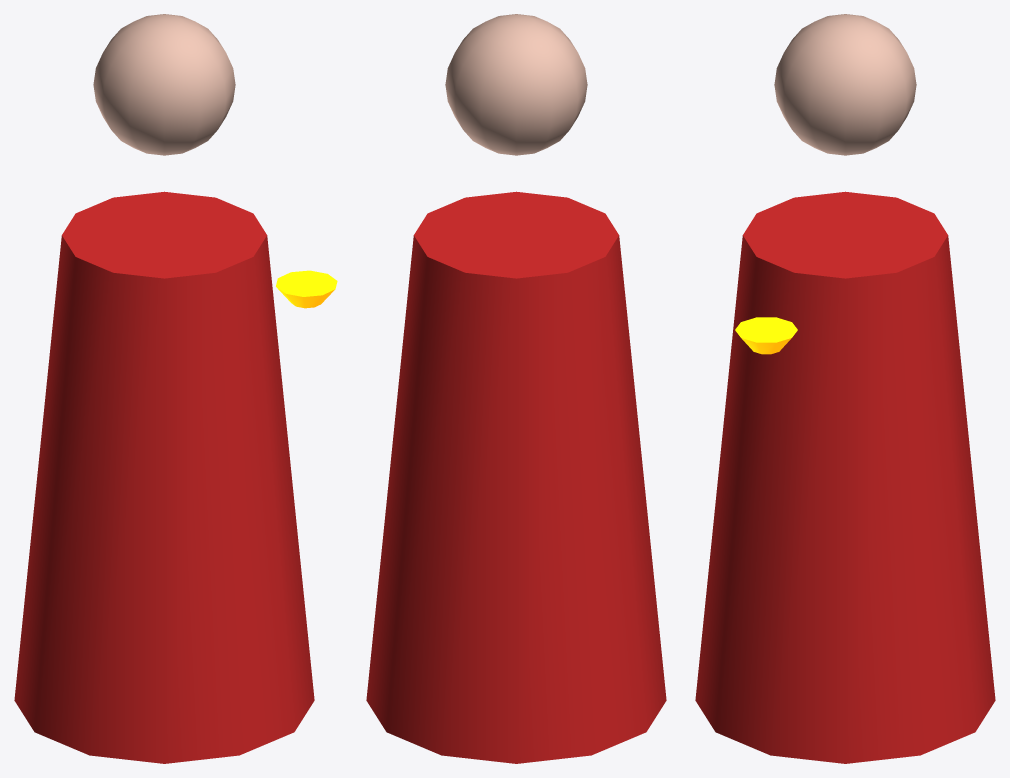
Rendered from npc.glb.
3 renders of one model, left to right at view 1: azimuth 30°, elevation 25°; view 2: azimuth 150°, elevation 25°; view 3: azimuth 270°, elevation 25°, orthographic.
Size of the model in its own units: 0.76 by 1.9 by 0.76.
